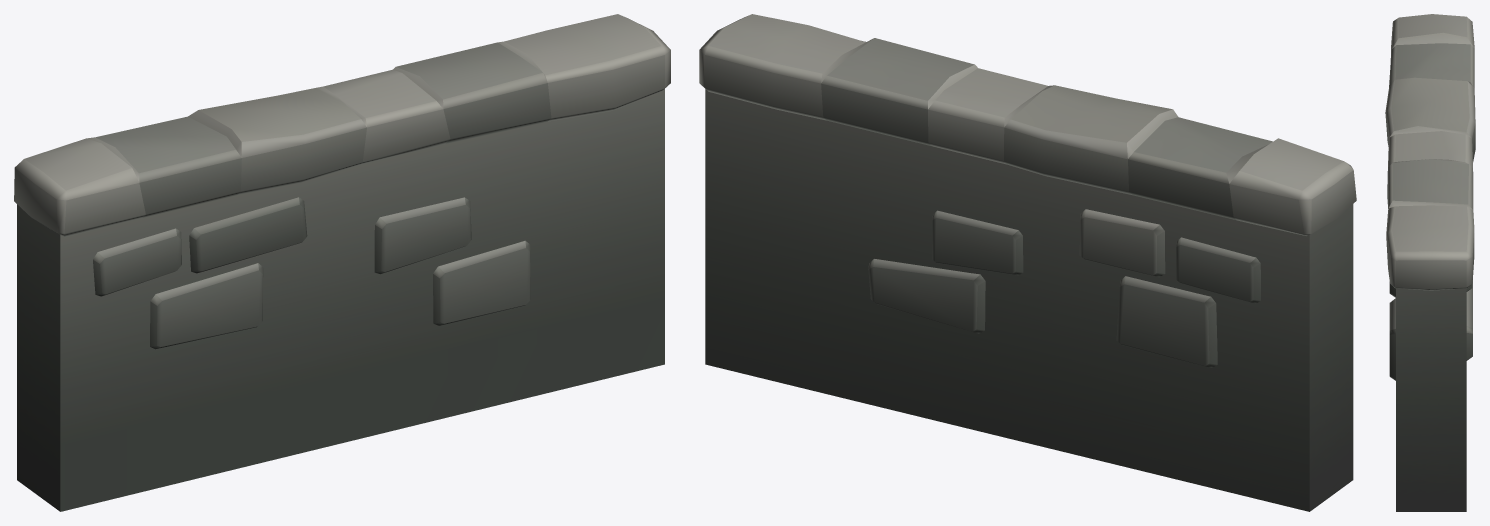
The model's file is human_wall_foundation_2.fbx.
3 views of the same model, side by side, from view 1: azimuth 30°, elevation 25°; view 2: azimuth 150°, elevation 25°; view 3: azimuth 270°, elevation 25° (orthographic). The views are drawn at different scales.
Parts seen in each view (by area): view 1: human_wall_foundation_2; view 2: human_wall_foundation_2; view 3: human_wall_foundation_2.
Part boxes in pixels (left/top/right/bottom): human_wall_foundation_2: left=14, top=14, right=670, bottom=511; human_wall_foundation_2: left=699, top=14, right=1356, bottom=511; human_wall_foundation_2: left=1385, top=14, right=1475, bottom=511.
Bounding box in the file's own units: 411 × 209 × 63.74.
